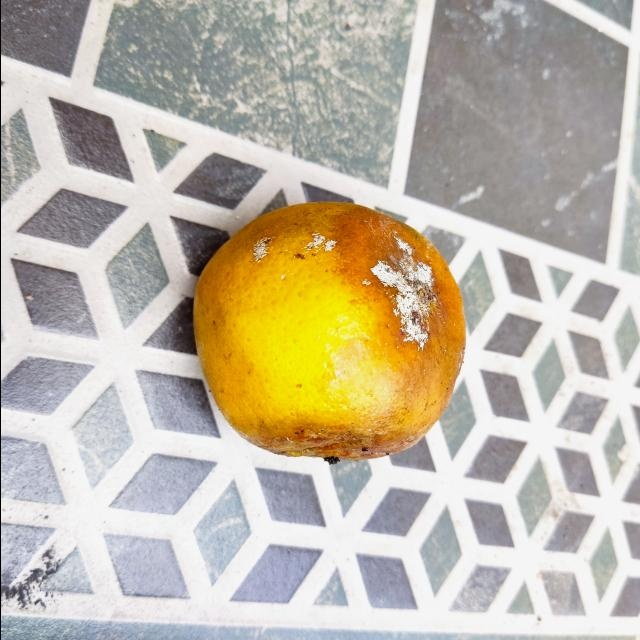agrume: (189, 201, 467, 464)
